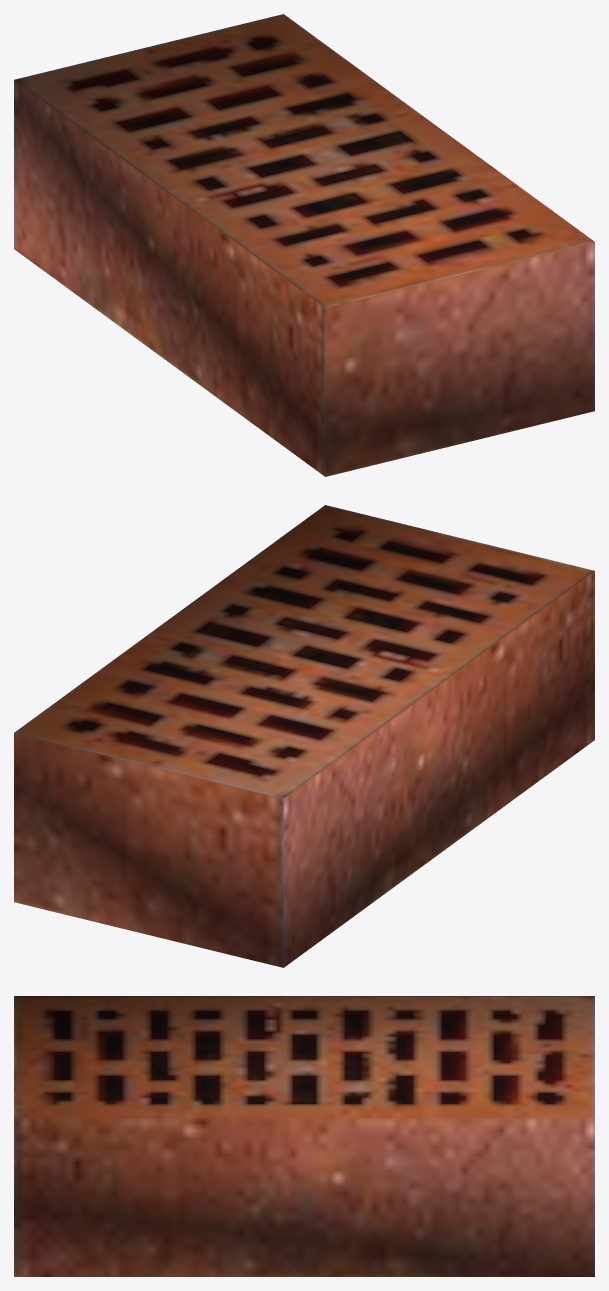
File: psx_industrial_pack_brick.glb
3 renders of one model, top to bottom at view 1: azimuth 30°, elevation 25°; view 2: azimuth 150°, elevation 25°; view 3: azimuth 270°, elevation 25°, orthographic. The views are drawn at different scales.
Visible parts, largest first — view 1: Brick; view 2: Brick; view 3: Brick.
Part boxes in pixels (bbox=[...]): Brick: bbox=[14, 14, 594, 476]; Brick: bbox=[14, 505, 594, 967]; Brick: bbox=[14, 996, 594, 1276].
Bounding box in the file's own units: 0.1 × 0.06 × 0.2.
1 material, 1 textured.
